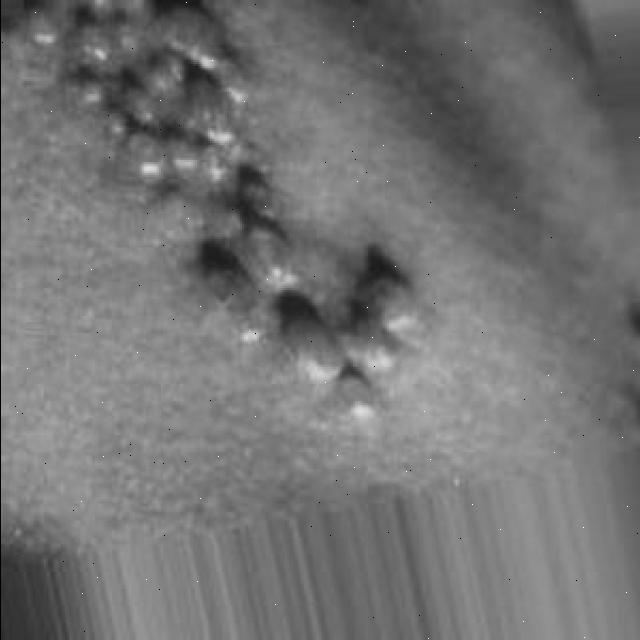Shingles: (24, 0, 417, 417)
